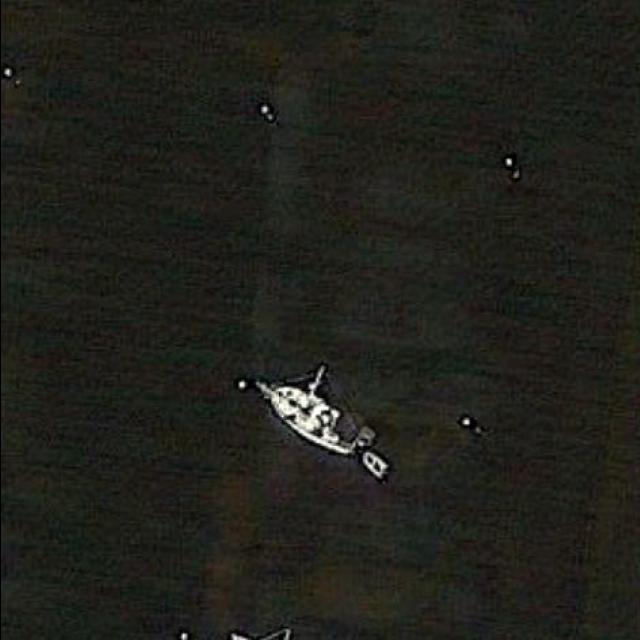ship: (253, 365, 379, 457)
